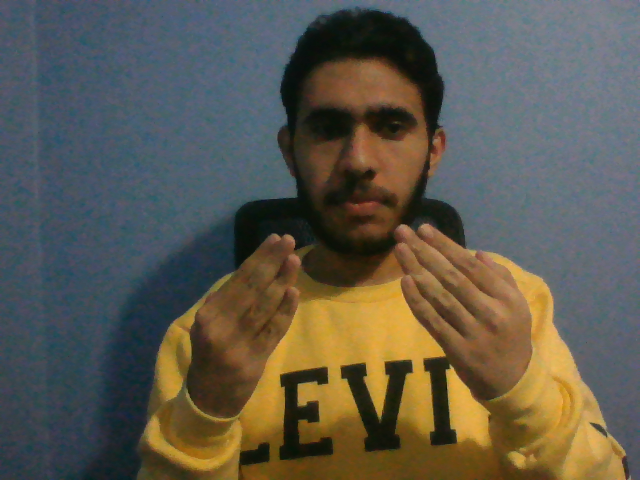thanks: (182, 219, 541, 420)
